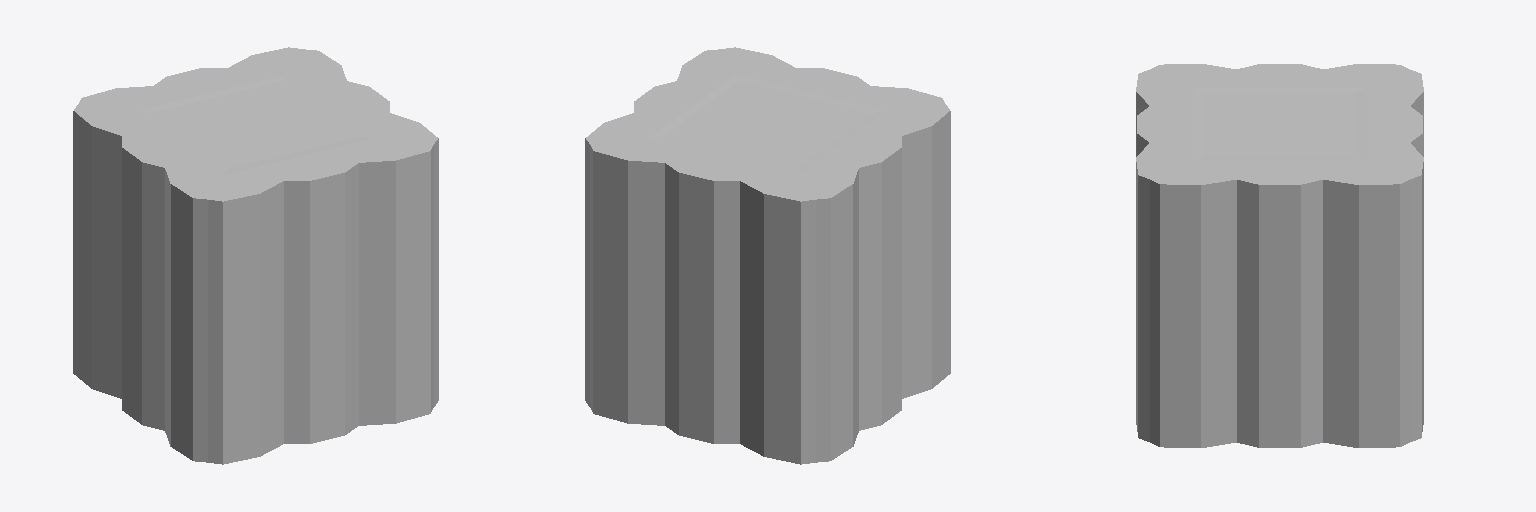
The model's file is wood_wall_flat.obj.
The picture shows the model from 3 angles: view 1: azimuth 30°, elevation 25°; view 2: azimuth 150°, elevation 25°; view 3: azimuth 270°, elevation 25°; orthographic projection.
Parts seen in each view (by area): view 1: Cube; view 2: Cube; view 3: Cube.
Part boxes in pixels (x1,y1,x2,y2): Cube: (73, 47, 438, 464); Cube: (585, 47, 950, 464); Cube: (1136, 64, 1423, 447).
Size of the model in its own units: 1.98 by 2 by 1.98.